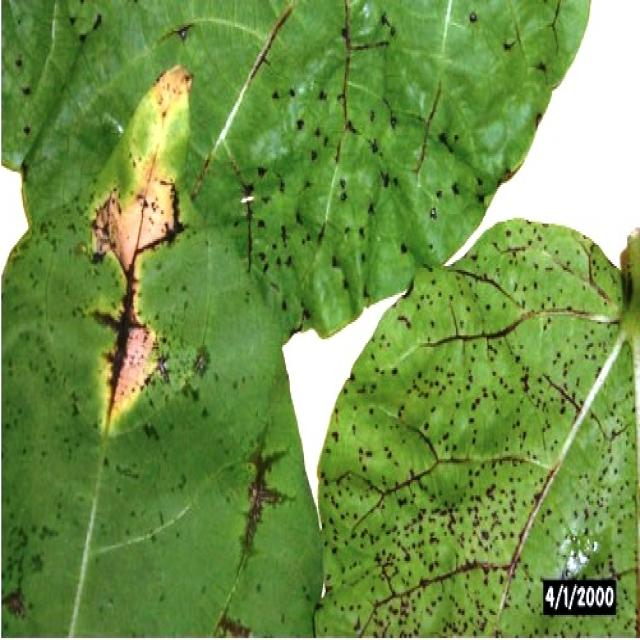Bacterial Blight: (78, 46, 222, 445), (394, 322, 556, 596)
